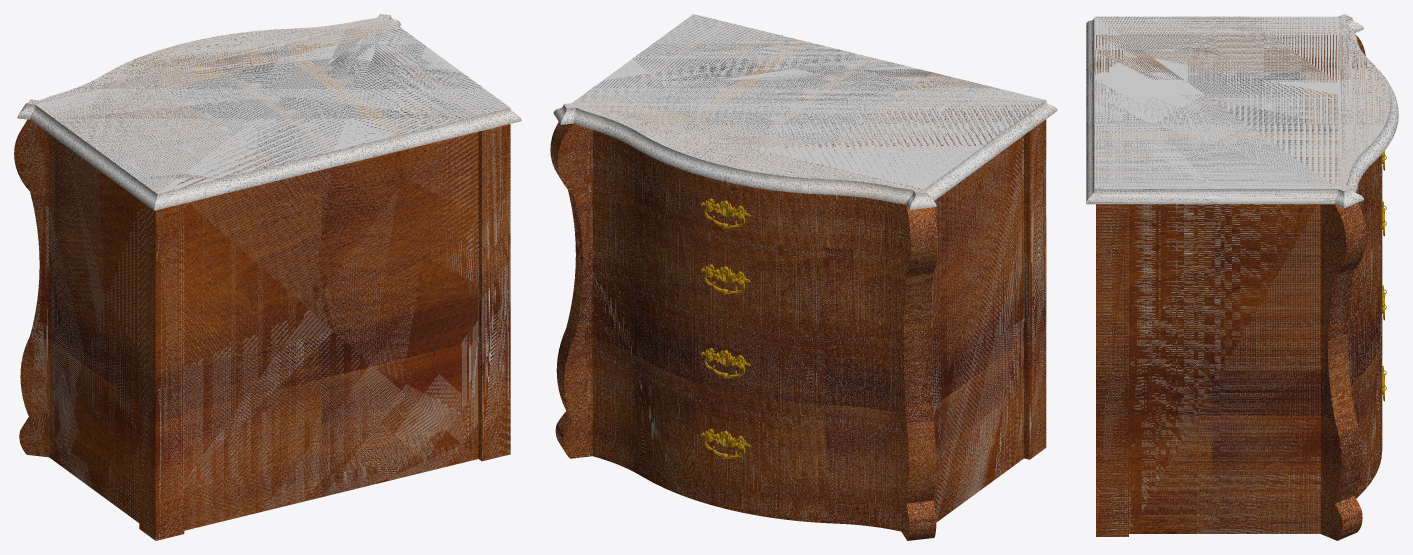
3 views of the same model, side by side, from view 1: azimuth 30°, elevation 25°; view 2: azimuth 150°, elevation 25°; view 3: azimuth 270°, elevation 25° (orthographic).
Visible parts, largest first — view 1: mesh22_mesh22-geometry; view 2: mesh22_mesh22-geometry, mesh1_mesh1-geometry, mesh3_mesh3-geometry; view 3: mesh22_mesh22-geometry.
Boxes of the visible parts, x1,y1,x2,y2 form: mesh22_mesh22-geometry: [14, 14, 521, 540]; mesh22_mesh22-geometry: [550, 14, 1057, 540]; mesh1_mesh1-geometry: [700, 198, 750, 449]; mesh3_mesh3-geometry: [704, 206, 745, 459]; mesh22_mesh22-geometry: [1086, 14, 1398, 540].
Size of the model in its own units: 0.6713 by 0.5745 by 0.4684.
